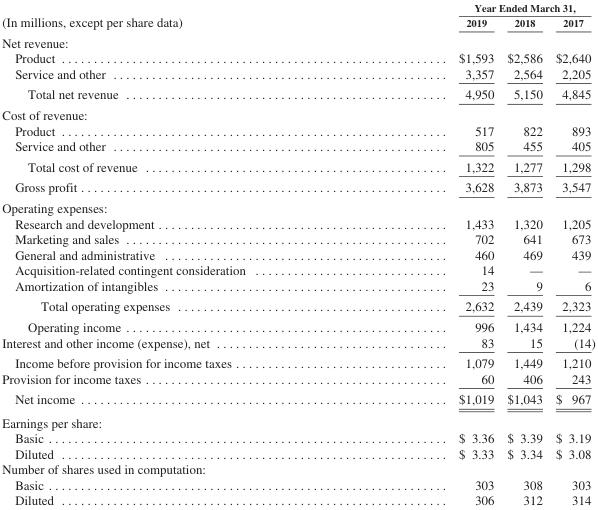table: (1, 1, 594, 506)
table column: (1, 1, 351, 506), (351, 1, 499, 506), (499, 1, 548, 506), (548, 1, 594, 506)
table column header: (1, 1, 594, 32)
table projected row header: (1, 410, 594, 429), (1, 32, 594, 50), (1, 104, 594, 122), (1, 197, 594, 215), (1, 460, 594, 476)
table row: (1, 388, 594, 410), (1, 83, 594, 104), (1, 176, 594, 197), (1, 295, 594, 316), (1, 156, 594, 176), (1, 137, 594, 156), (1, 410, 594, 429), (1, 14, 594, 32), (1, 32, 594, 50), (1, 65, 594, 83), (1, 104, 594, 122), (1, 197, 594, 215), (1, 277, 594, 295), (1, 316, 594, 334), (1, 334, 594, 352), (1, 352, 594, 370), (1, 370, 594, 388), (1, 215, 594, 231), (1, 246, 594, 262), (1, 429, 594, 445), (1, 460, 594, 476), (1, 476, 594, 492), (1, 50, 594, 65), (1, 122, 594, 137), (1, 231, 594, 246), (1, 262, 594, 277), (1, 445, 594, 460), (1, 492, 594, 506), (1, 1, 594, 14)
table spanning cell: (1, 1, 351, 32), (351, 1, 594, 14)
